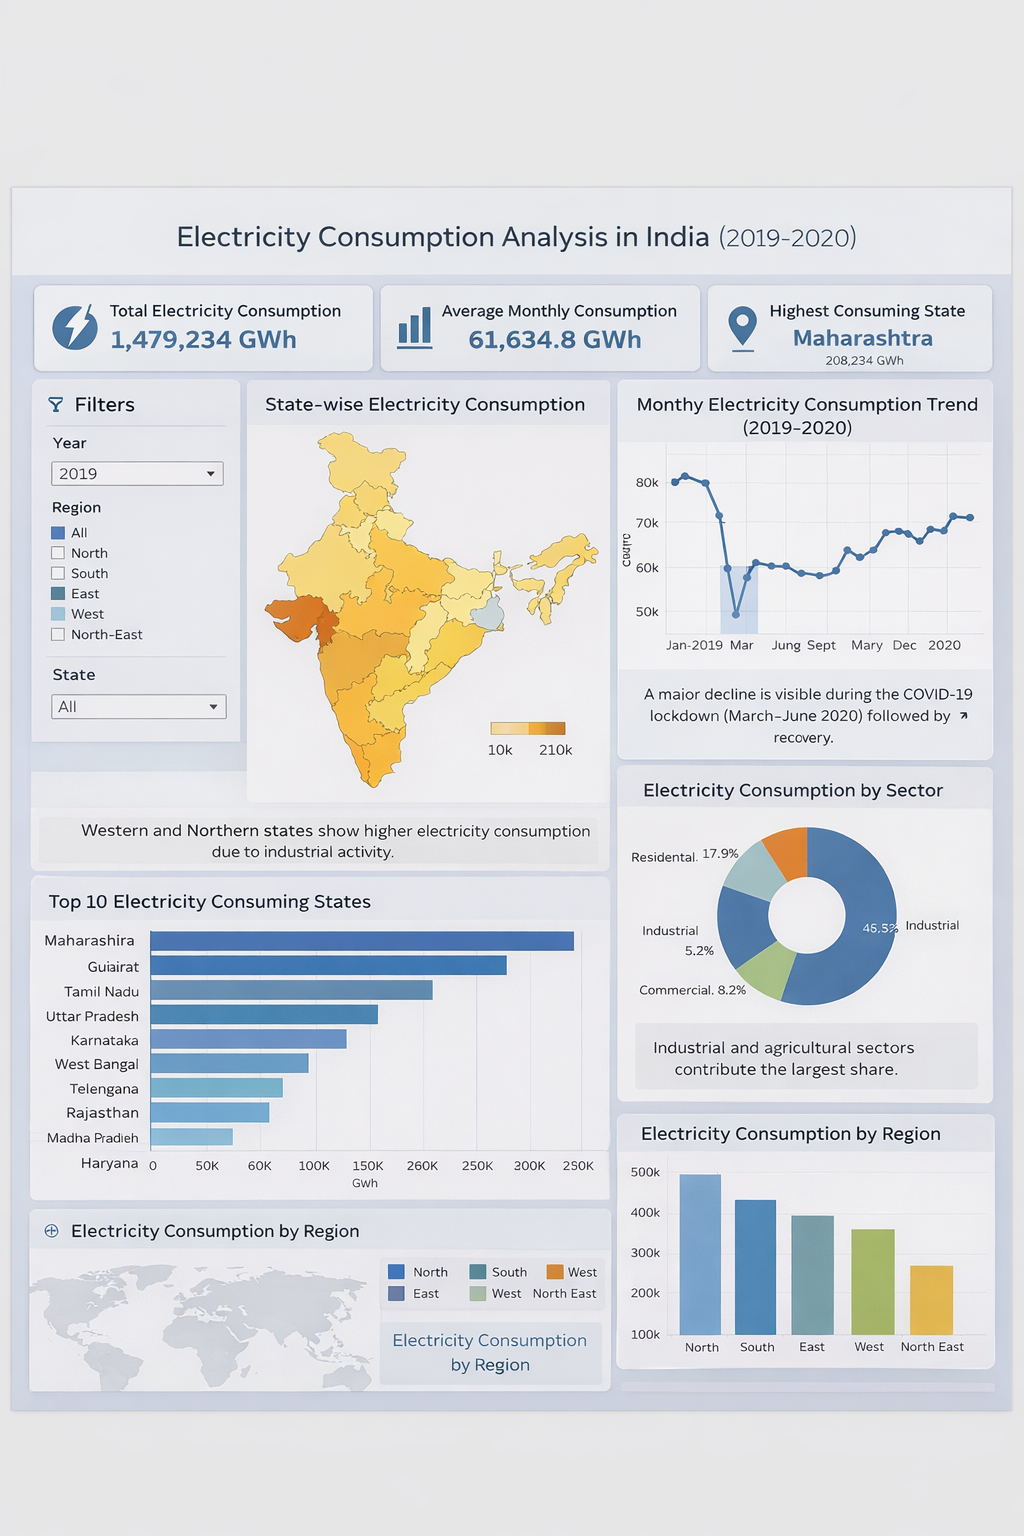

The page's visual inventory and layout, read from the dashboard file:
{"tool":"tableau","page":{"name":"Main Dashboard","canvas":[1000,1000],"units":"permille","ordinal":0},"visuals":[{"type":"title","box":[4.8,9.4,990.3,58.8]},{"type":"worksheet","title":"Region-wise State Usage","mark":"Square","rows":["States"],"cols":["Regions"],"box":[4.8,68.2,223.4,307.5]},{"type":"worksheet","title":"Total Consumption Region Wise","mark":"Bar","rows":["Usage"],"cols":["Regions","Dates"],"box":[228.3,68.2,223.5,307.5]},{"type":"worksheet","title":"Usage by Region","mark":"Bar","rows":["Usage"],"cols":["Regions"],"box":[451.7,68.2,223.5,307.5]},{"type":"worksheet","title":"Total Consumption","mark":"Text","rows":["Regions"],"cols":["Dates"],"box":[675.2,68.2,223.4,307.5]},{"type":"legend","title":"Total Consumption Region Wise","param":"[federated.0u4q8c917m2olp1h9ldgx0ixeg16].[none:Regions:nk]","box":[898.6,68.2,96.6,139.2]},{"type":"legend","title":"2019 State Consumption","param":"[federated.0u4q8c917m2olp1h9ldgx0ixeg16].[sum:Usage:qk]","box":[898.6,207.4,96.6,85.8]},{"type":"parameter","param":"[Parameters].[Parameter 1]","box":[898.6,293.2,96.6,92.8]},{"type":"worksheet","title":"Usage Before and After Lockdown","mark":"Bar","rows":["Usage"],"cols":["Calculation_0762832760664065"],"box":[4.8,375.6,223.4,307.4]},{"type":"worksheet","title":"2019 Month-wise Consumption","mark":"Line","rows":["Usage"],"cols":["Dates"],"box":[228.3,375.6,223.5,307.4]},{"type":"worksheet","title":"Quarter Usage","mark":"Bar","rows":["Usage"],"cols":["Dates","Dates"],"box":[451.7,375.6,223.4,307.4]},{"type":"worksheet","title":"2020 Month-wise Consumption (2)","mark":"Line","rows":["Usage"],"cols":["Dates"],"box":[675.2,375.6,223.5,307.4]},{"type":"filter","title":"Region-wise State Usage","param":"[federated.0u4q8c917m2olp1h9ldgx0ixeg16].[yr:Dates:ok]","box":[898.6,386,96.6,123.4]},{"type":"legend","title":"Usage Before and After Lockdown","param":"[federated.0u4q8c917m2olp1h9ldgx0ixeg16].[none:Calculation_0762832760664065:nk]","box":[898.6,509.4,96.6,134]},{"type":"legend","title":"Quarter Usage","param":"[federated.0u4q8c917m2olp1h9ldgx0ixeg16].[yr:Dates:ok]","box":[898.6,643.4,96.6,84.6]},{"type":"worksheet","title":"Top N States","mark":"Automatic","rows":["States"],"cols":["Usage"],"box":[4.8,683.1,223.4,307.5]},{"type":"worksheet","title":"2019 State Consumption","mark":"Automatic","rows":["States"],"cols":["Usage"],"box":[228.3,683.1,223.5,307.5]},{"type":"worksheet","title":"Bottom N States","mark":"Automatic","rows":["States"],"cols":["Usage"],"box":[451.7,683.1,223.4,307.5]},{"type":"worksheet","title":"2020 State Consumption","mark":"Automatic","rows":["States"],"cols":["Usage"],"box":[675.2,683.1,223.5,307.5]},{"type":"filter","title":"Top N States","param":"[federated.0u4q8c917m2olp1h9ldgx0ixeg16].[none:States:nk]","box":[898.6,728,96.6,139.2]},{"type":"filter","title":"Total Consumption Region Wise","param":"[federated.0u4q8c917m2olp1h9ldgx0ixeg16].[yr:Dates:ok]","box":[898.6,867.2,96.6,123.4]}]}

Visuals, with their boxes on the dashboard's canvas, which has no fixed pixel size, in thousandths of its width and height (x1, y1, x2, y2). These are canvas units, not pixel positions in the 1024x1536 screenshot, which may show the page scaled, cropped or inside an application window:
title: pyautogui.locateOnScreen(5, 9, 995, 68)
"Region-wise State Usage" worksheet (Square marks): pyautogui.locateOnScreen(5, 68, 228, 376)
"Total Consumption Region Wise" worksheet (Bar marks): pyautogui.locateOnScreen(228, 68, 452, 376)
"Usage by Region" worksheet (Bar marks): pyautogui.locateOnScreen(452, 68, 675, 376)
"Total Consumption" worksheet (Text marks): pyautogui.locateOnScreen(675, 68, 899, 376)
"Total Consumption Region Wise" legend: pyautogui.locateOnScreen(899, 68, 995, 207)
"2019 State Consumption" legend: pyautogui.locateOnScreen(899, 207, 995, 293)
parameter: pyautogui.locateOnScreen(899, 293, 995, 386)
"Usage Before and After Lockdown" worksheet (Bar marks): pyautogui.locateOnScreen(5, 376, 228, 683)
"2019 Month-wise Consumption" worksheet (Line marks): pyautogui.locateOnScreen(228, 376, 452, 683)
"Quarter Usage" worksheet (Bar marks): pyautogui.locateOnScreen(452, 376, 675, 683)
"2020 Month-wise Consumption (2)" worksheet (Line marks): pyautogui.locateOnScreen(675, 376, 899, 683)
"Region-wise State Usage" filter: pyautogui.locateOnScreen(899, 386, 995, 509)
"Usage Before and After Lockdown" legend: pyautogui.locateOnScreen(899, 509, 995, 643)
"Quarter Usage" legend: pyautogui.locateOnScreen(899, 643, 995, 728)
"Top N States" worksheet: pyautogui.locateOnScreen(5, 683, 228, 991)
"2019 State Consumption" worksheet: pyautogui.locateOnScreen(228, 683, 452, 991)
"Bottom N States" worksheet: pyautogui.locateOnScreen(452, 683, 675, 991)
"2020 State Consumption" worksheet: pyautogui.locateOnScreen(675, 683, 899, 991)
"Top N States" filter: pyautogui.locateOnScreen(899, 728, 995, 867)
"Total Consumption Region Wise" filter: pyautogui.locateOnScreen(899, 867, 995, 991)
